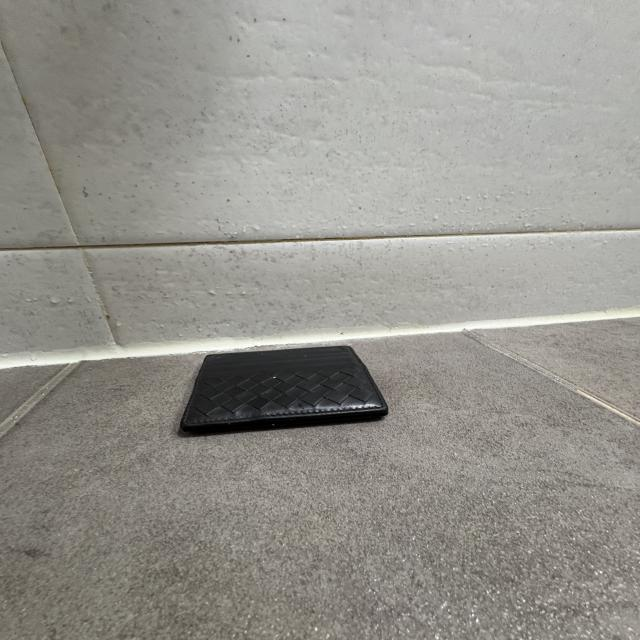wallet: (176, 344, 391, 438)
